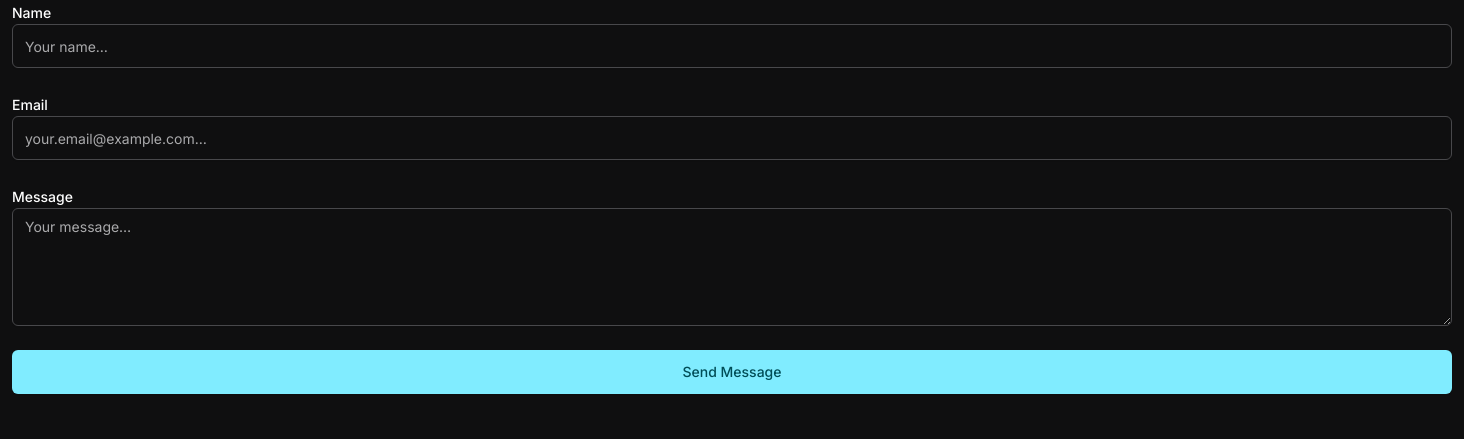
ContactForm › shows validation errors on blur for invalid name
The image size is (1464, 439).
Type "A" into the field labelled "Name" at (732, 46), box [12,24,1452,68]
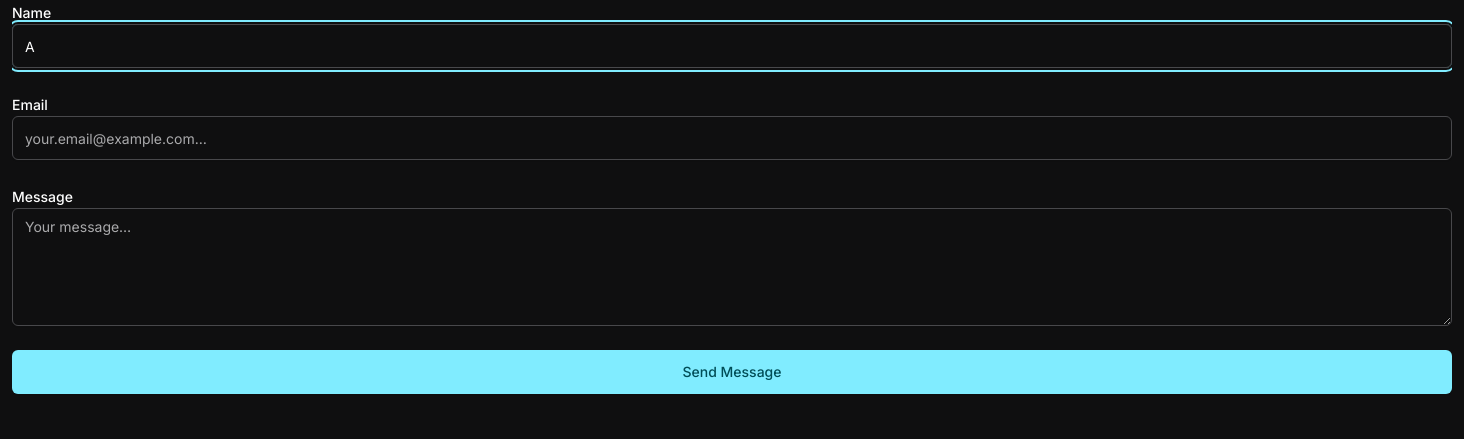
Press Tab
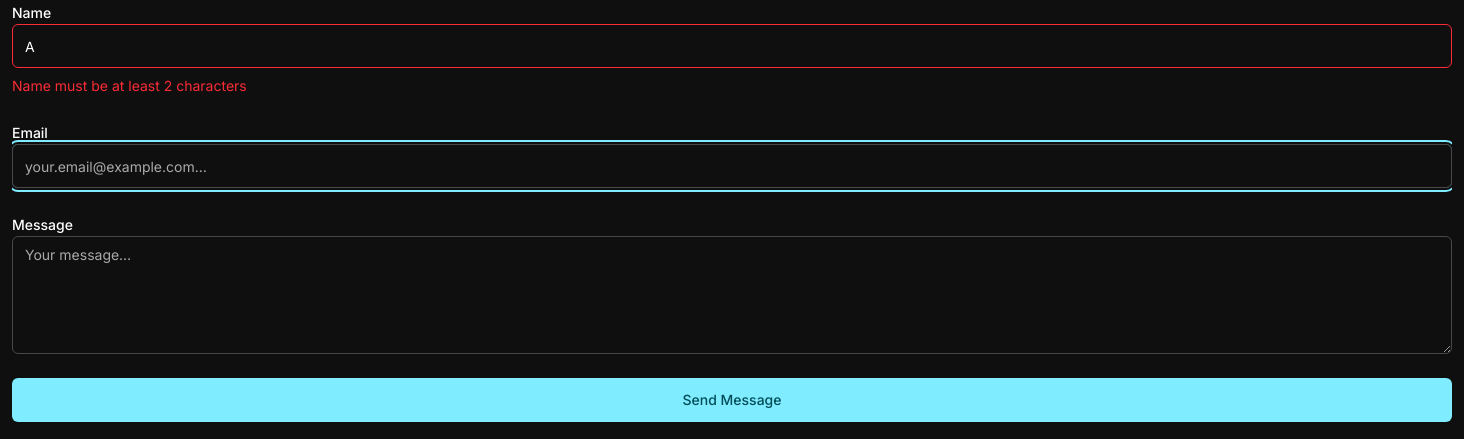
Now the text "Name must be at least 2 characters" is shown, box [12,77,247,94]
